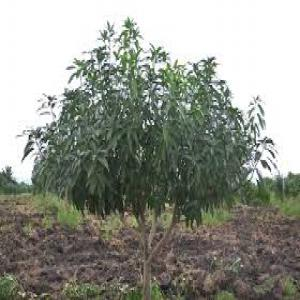Tree: (17, 13, 278, 295)
